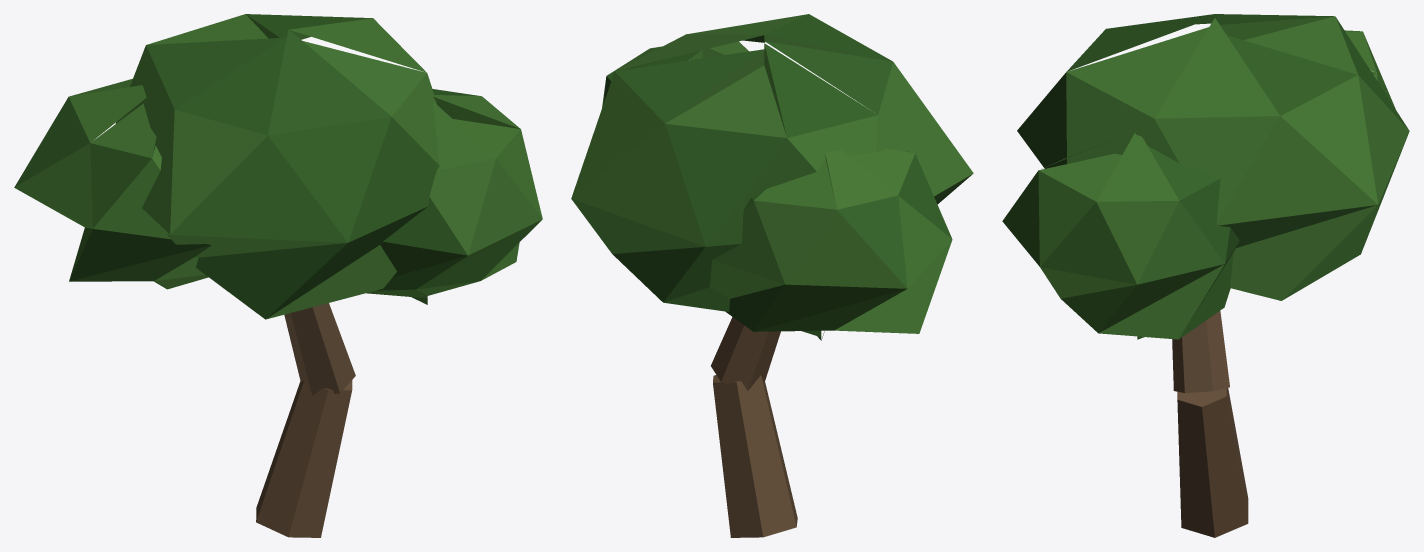
The model's file is park_tree.glb.
3 renders of one model, left to right at view 1: azimuth 30°, elevation 25°; view 2: azimuth 150°, elevation 25°; view 3: azimuth 270°, elevation 25°, orthographic.
Parts seen in each view (by area): view 1: park_tree2; view 2: park_tree2; view 3: park_tree2.
Boxes of the visible parts, x1,y1,x2,y2 form: park_tree2: (14, 14, 542, 537); park_tree2: (571, 14, 973, 537); park_tree2: (1002, 14, 1409, 537).
Size of the model in its own units: 5.08 by 5.92 by 4.33.
